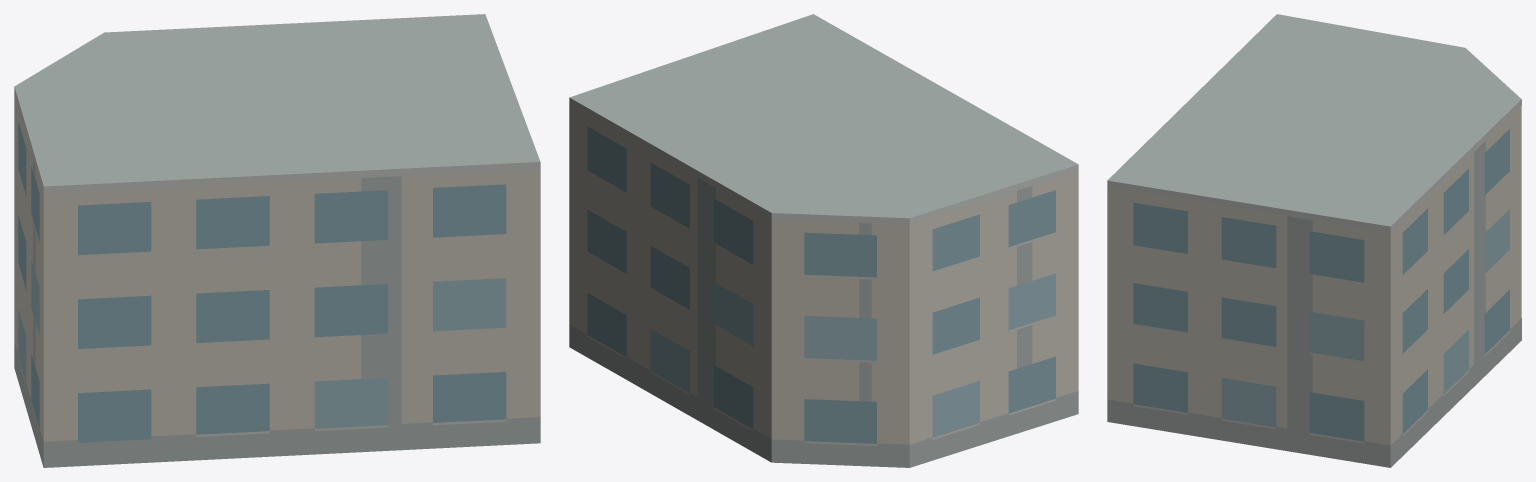
File: survey-upis-32985265.glb
3 views of the same model, side by side, from view 1: azimuth 30°, elevation 25°; view 2: azimuth 150°, elevation 25°; view 3: azimuth 270°, elevation 25° (orthographic). The views are drawn at different scales.
Visible parts, largest first — view 1: survey-upis-32985265.tmp; view 2: survey-upis-32985265.tmp; view 3: survey-upis-32985265.tmp.
Boxes of the visible parts, <box> form: survey-upis-32985265.tmp: <box>14,14,540,467</box>; survey-upis-32985265.tmp: <box>569,14,1078,467</box>; survey-upis-32985265.tmp: <box>1107,14,1521,467</box>.
Bounding box in the file's own units: 17.29 × 9.15 × 14.25.
